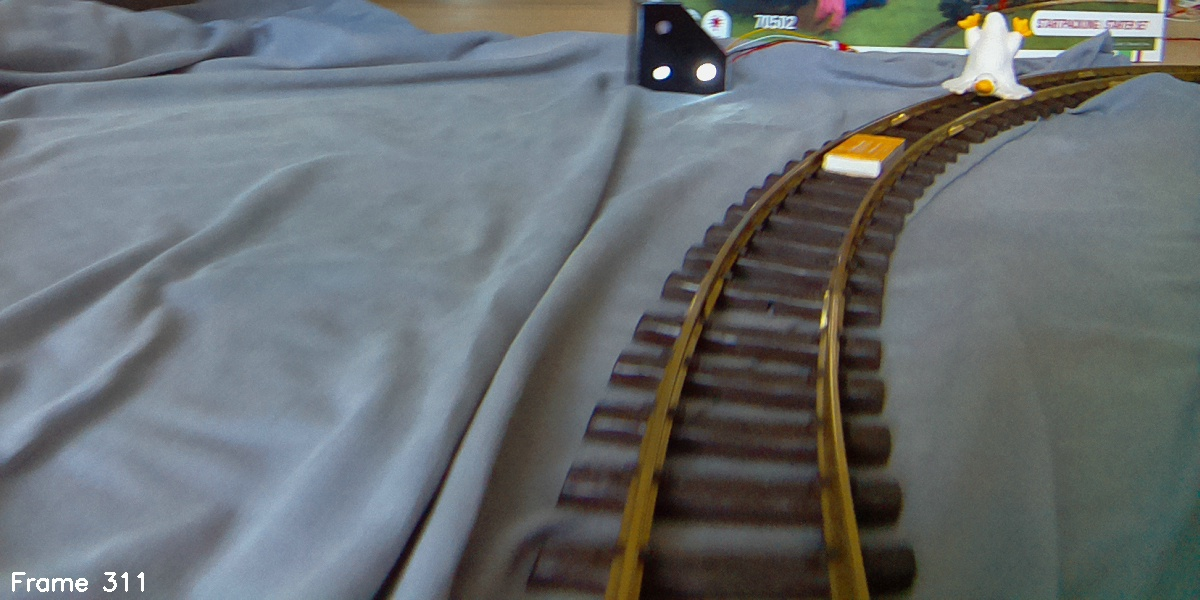Ente: (940, 9, 1036, 104)
Halt: (624, 1, 728, 95)
